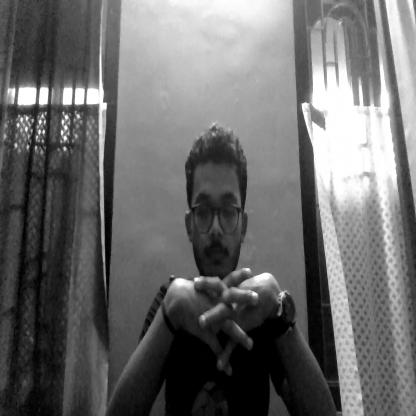Normal: (182, 127, 256, 280)
